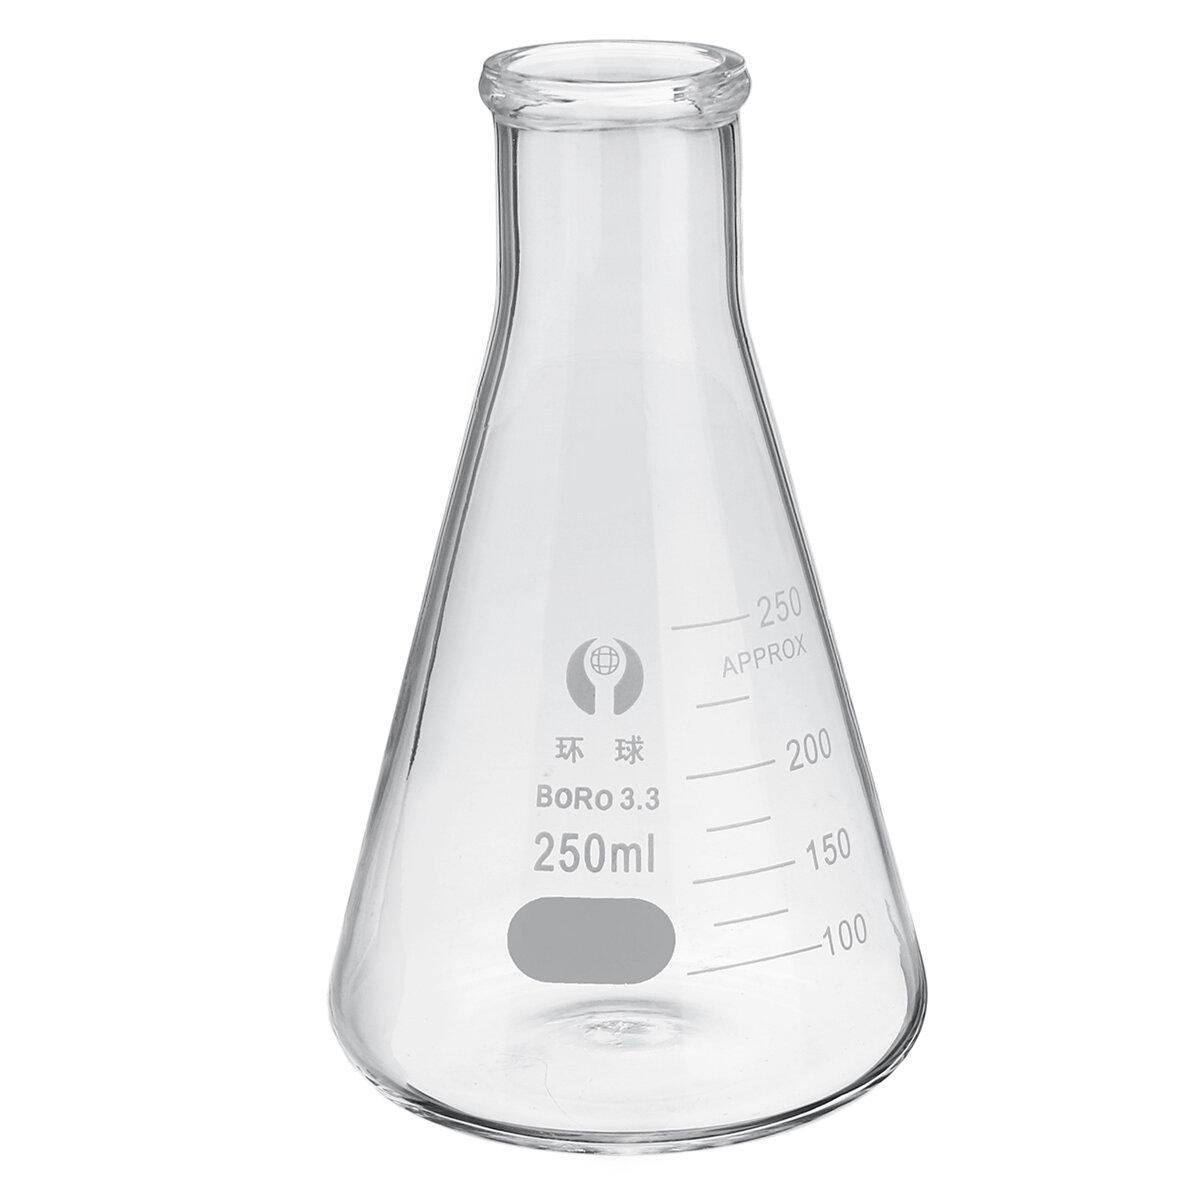Titrarion: (310, 43, 933, 1145)
